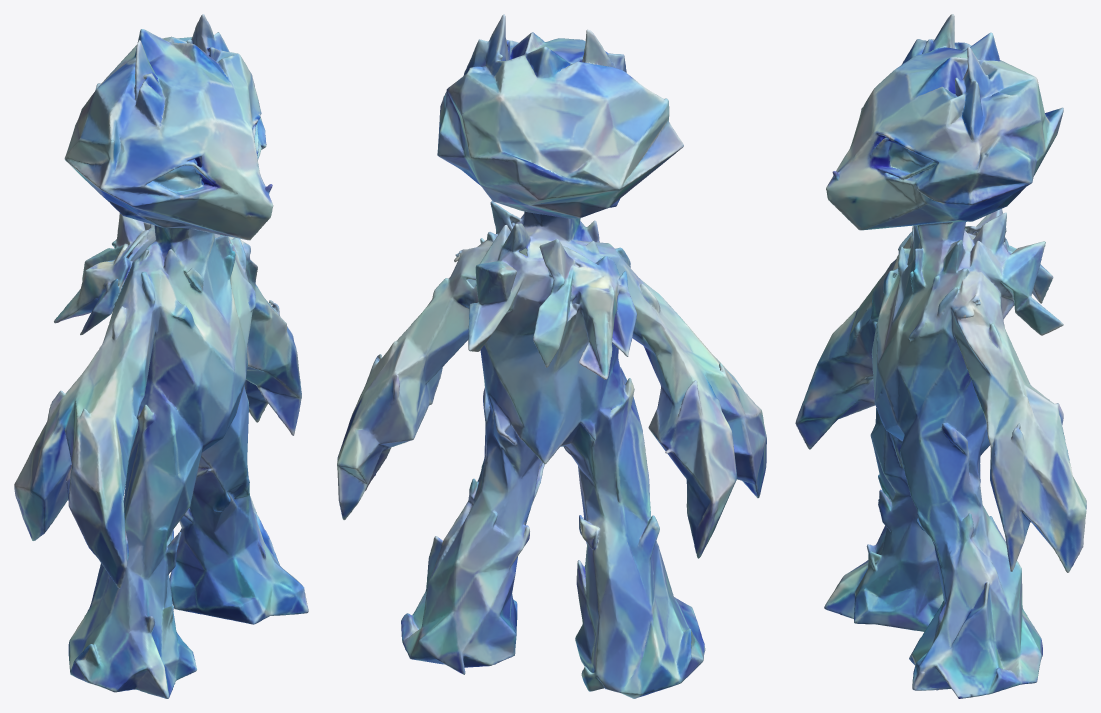
Rendered from frost_giant_child_proxy.glb.
The picture shows the model from 3 angles, left to right: view 1: azimuth 30°, elevation 25°; view 2: azimuth 150°, elevation 25°; view 3: azimuth 270°, elevation 25°; orthographic projection. The views are drawn at different scales.
Size of the model in its own units: 0.5107 by 0.9701 by 0.4062.
1 material, 1 textured.
